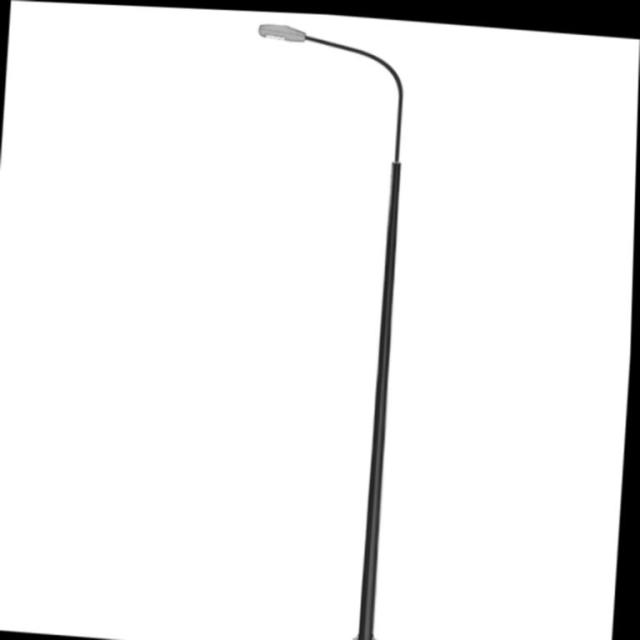pole: (346, 157, 432, 639)
